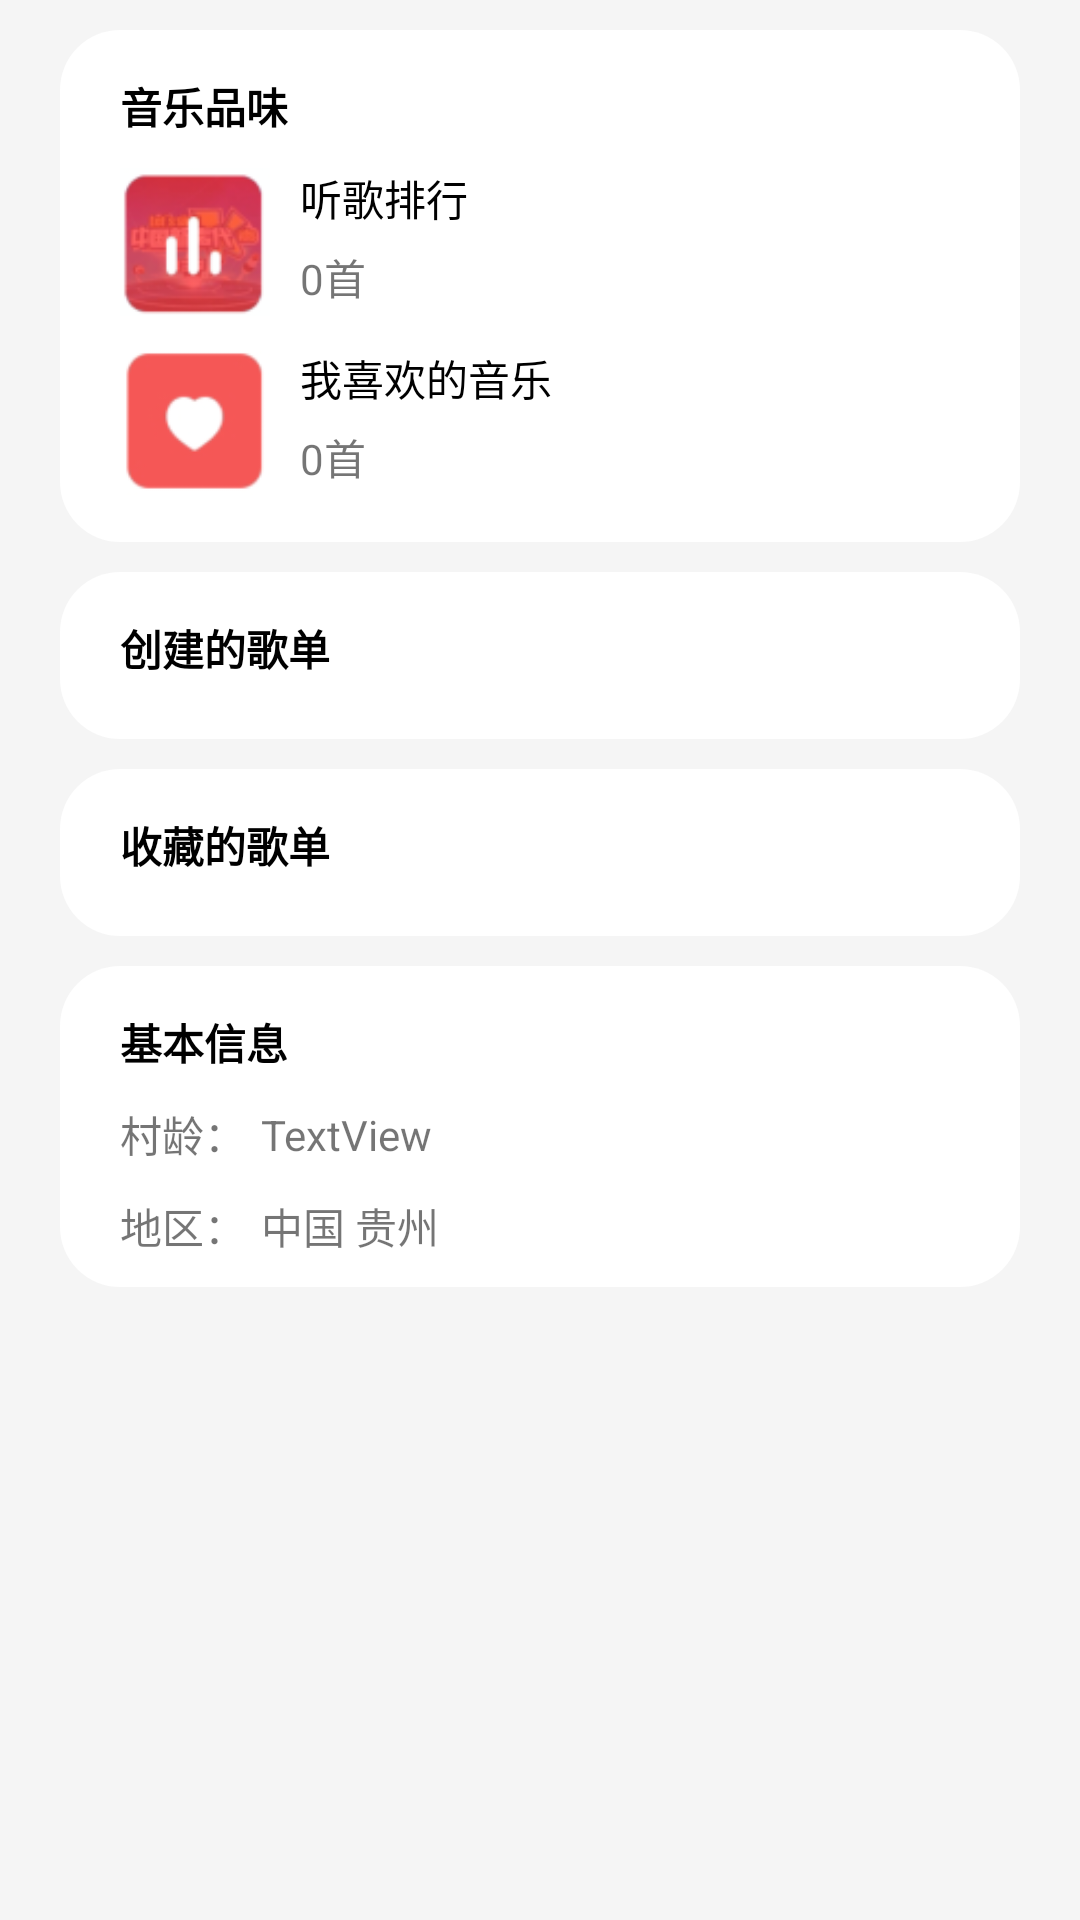

Screen size 1080w x 1920h. Icon name, then its box in pixels as (x1, y1, x2, y2):
click userinfo musicrank: (124, 174, 262, 313)
likemusicrating: (126, 353, 262, 489)
